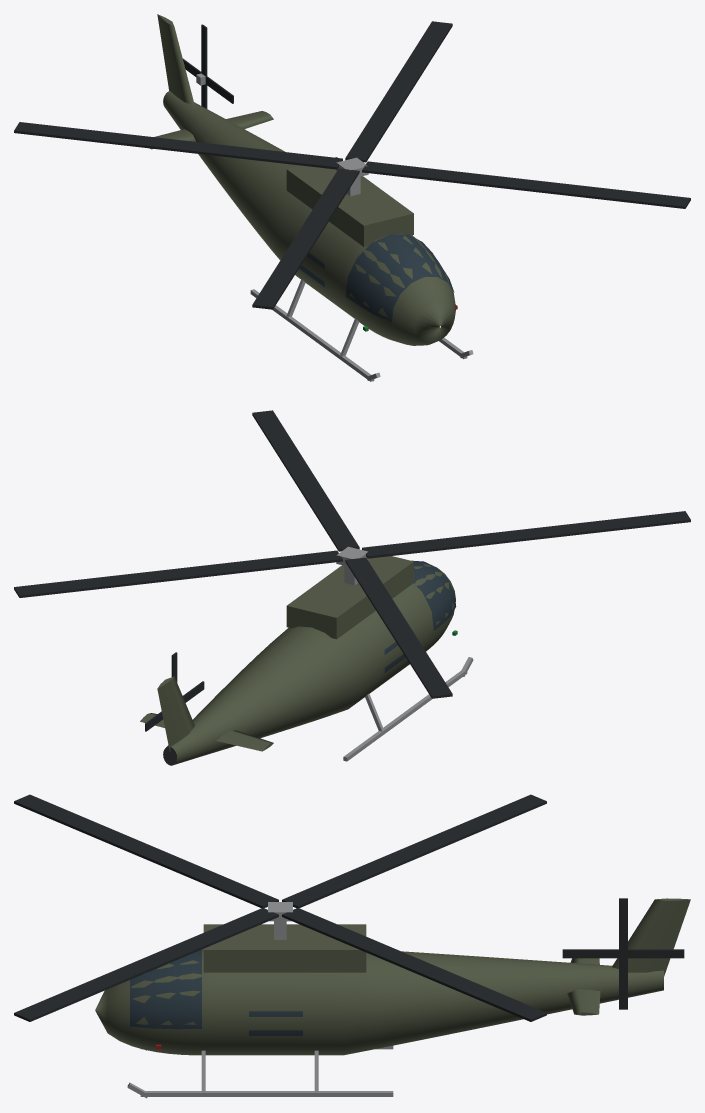
File: helicopter.glb
3 renders of one model, top to bottom at view 1: azimuth 30°, elevation 25°; view 2: azimuth 150°, elevation 25°; view 3: azimuth 270°, elevation 25°, orthographic. The views are drawn at different scales.
Visible parts, largest first — view 1: olive-body, rubber-rotor-main, glass-body, metal-body, rubber-rotor-tail; view 2: olive-body, rubber-rotor-main, glass-body, metal-body, rubber-rotor-tail; view 3: olive-body, rubber-rotor-main, glass-body, metal-body, rubber-rotor-tail.
Part boxes in pixels (x1=…): olive-body: x1=150, y1=14, x2=455, y2=345; rubber-rotor-main: x1=14, y1=21, x2=690, y2=309; glass-body: x1=299, y1=234, x2=454, y2=322; metal-body: x1=250, y1=176, x2=473, y2=381; rubber-rotor-tail: x1=182, y1=24, x2=233, y2=108; olive-body: x1=140, y1=556, x2=455, y2=764; rubber-rotor-main: x1=14, y1=410, x2=690, y2=698; glass-body: x1=384, y1=560, x2=456, y2=672; metal-body: x1=343, y1=566, x2=473, y2=761; rubber-rotor-tail: x1=145, y1=652, x2=204, y2=731; olive-body: x1=95, y1=898, x2=690, y2=1055; rubber-rotor-main: x1=14, y1=794, x2=546, y2=1021; glass-body: x1=130, y1=949, x2=302, y2=1035; metal-body: x1=127, y1=921, x2=393, y2=1098; rubber-rotor-tail: x1=562, y1=898, x2=684, y2=1009.
Bounding box in the file's own units: 11.81 × 4.46 × 15.
